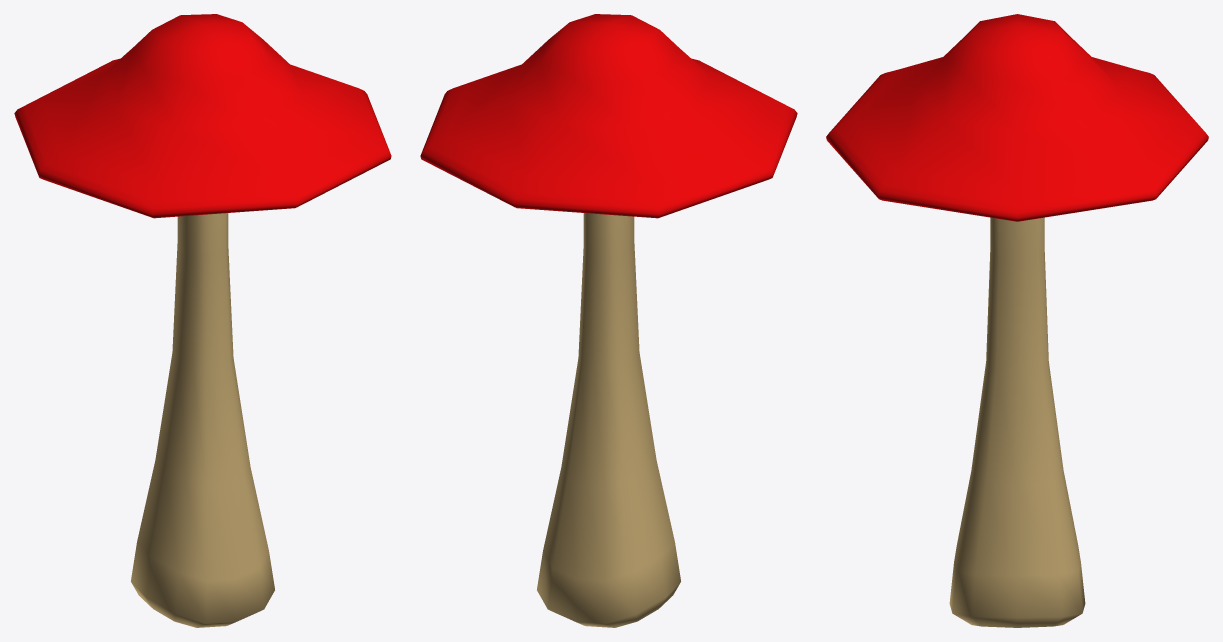
File: hongo.fbx
The picture shows the model from 3 angles, left to right: view 1: azimuth 30°, elevation 25°; view 2: azimuth 150°, elevation 25°; view 3: azimuth 270°, elevation 25°; orthographic projection.
Visible parts, largest first — view 1: hongo; view 2: hongo; view 3: hongo.
Boxes of the visible parts, x1=… form: hongo: x1=14, y1=14, x2=391, y2=627; hongo: x1=420, y1=14, x2=797, y2=627; hongo: x1=826, y1=14, x2=1208, y2=627.
Bounding box in the file's own units: 28.03 × 47.83 × 28.03.
